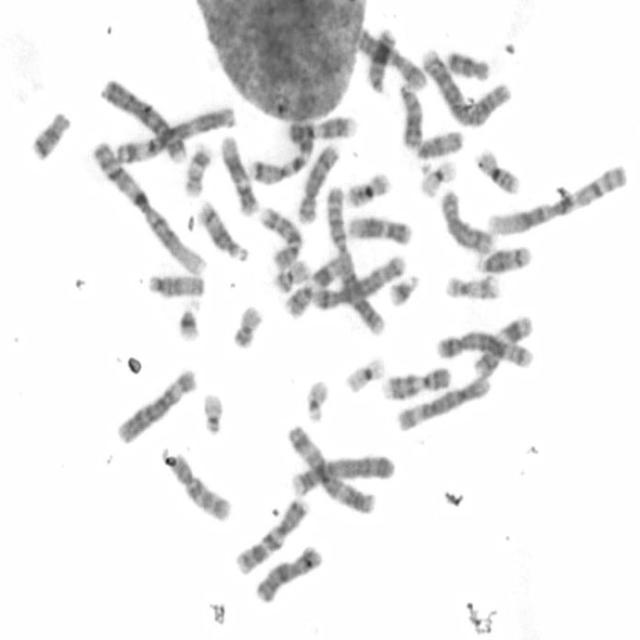A1: (89, 136, 207, 278), (483, 159, 628, 238)
A2: (323, 183, 386, 337), (417, 43, 514, 129)
A3: (284, 420, 378, 516), (112, 102, 238, 164)
B4: (98, 76, 188, 164), (288, 449, 397, 497)
B5: (308, 250, 407, 313), (432, 328, 536, 369)
C10: (158, 445, 232, 523), (256, 201, 304, 271)
C11: (470, 312, 534, 379), (284, 256, 347, 318)
C12: (217, 131, 260, 217), (344, 211, 414, 247)
C6: (113, 365, 200, 445), (393, 370, 492, 434)
C7: (232, 493, 310, 576), (246, 122, 316, 186)
C8: (293, 141, 341, 224), (438, 186, 493, 257)
C9: (378, 362, 454, 402), (284, 113, 358, 144)
D13: (364, 26, 396, 94), (395, 78, 424, 150)
D14: (195, 198, 249, 263), (473, 241, 532, 276)
D15: (412, 127, 466, 160), (144, 271, 207, 299)
E16: (472, 145, 521, 196), (343, 169, 393, 209)
E17: (442, 271, 502, 302), (181, 141, 213, 199)
E18: (27, 106, 72, 163), (442, 46, 493, 82)
F19: (341, 353, 387, 395), (417, 157, 458, 198)
F20: (228, 302, 264, 351), (271, 256, 311, 294)
G21: (386, 270, 421, 308), (175, 298, 202, 343)
G22: (302, 375, 332, 421), (198, 388, 226, 436)
X: (353, 25, 428, 91), (251, 540, 325, 606)
